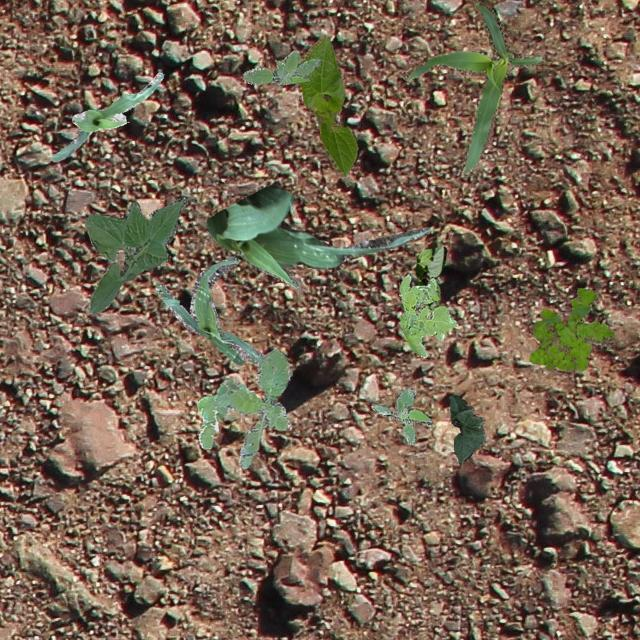crop: (402, 0, 542, 174), (206, 182, 430, 288), (154, 256, 264, 366), (84, 196, 185, 312), (49, 72, 162, 160), (299, 34, 356, 176), (449, 393, 484, 462), (414, 244, 446, 310)
weed: (196, 348, 292, 468), (528, 286, 614, 371), (398, 274, 456, 356), (370, 386, 430, 444), (242, 50, 320, 84)
